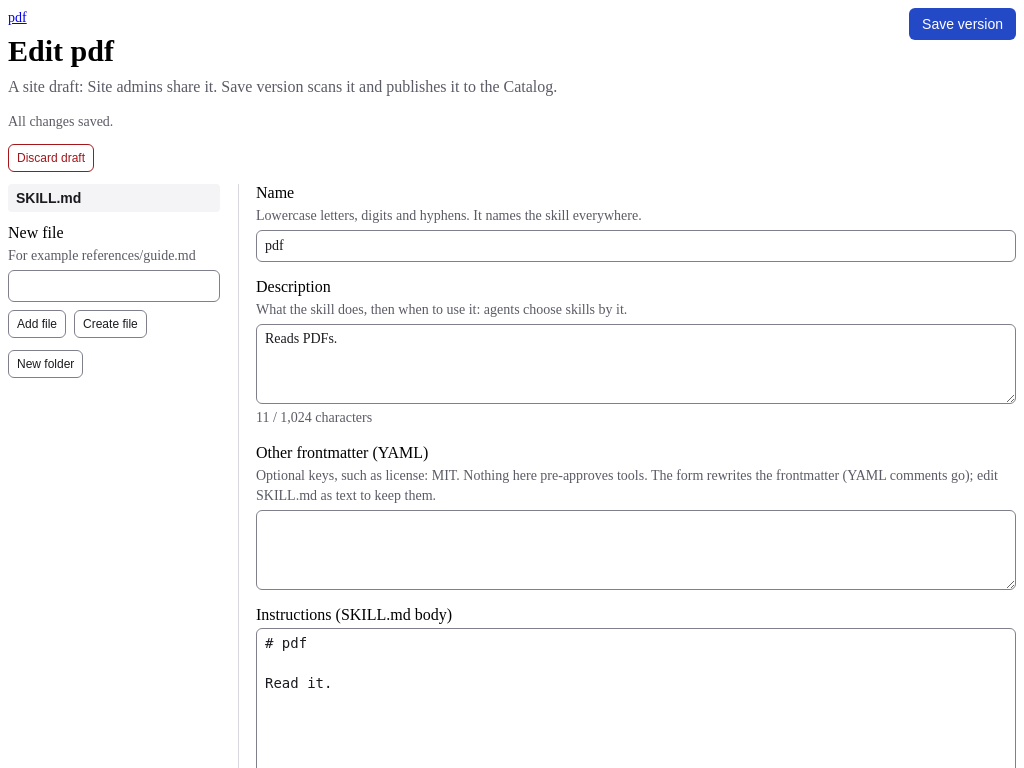
Scenario: site draft editor (ac-2, ac-3) › shows the findings when the scan blocks the version
This screenshot has width=1024, height=768.
Click the button "Save version" at (963, 24), box [909,8,1016,40]
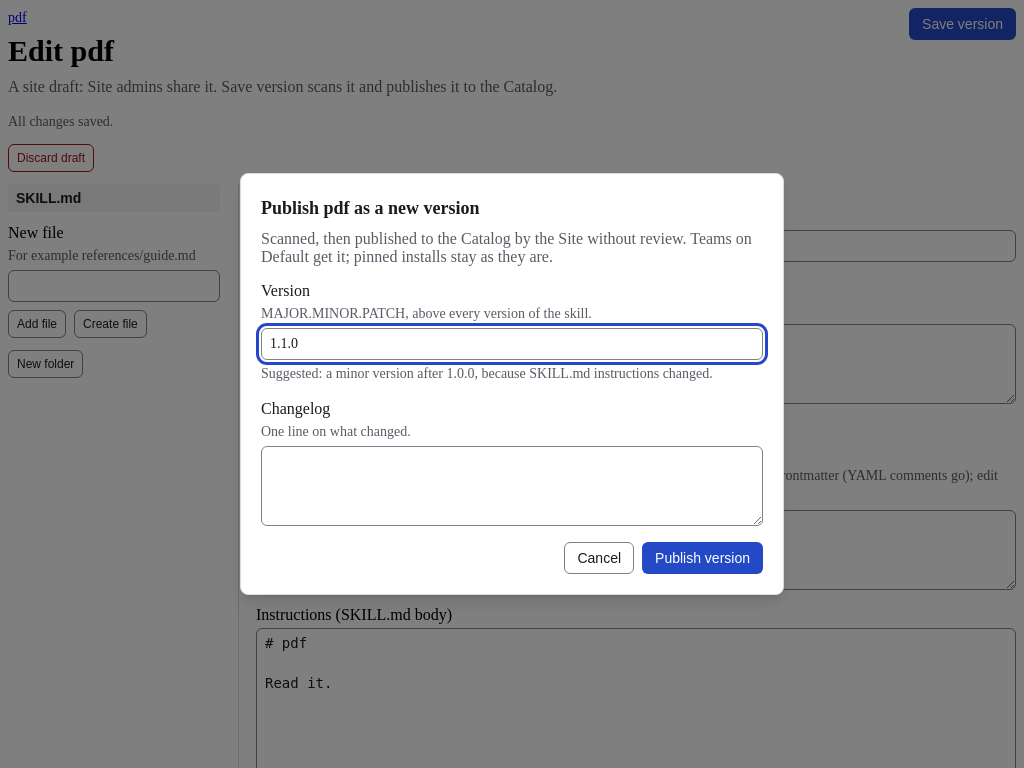
Type "X." into the text box labelled "Changelog" at (512, 486), box [261,446,763,526]
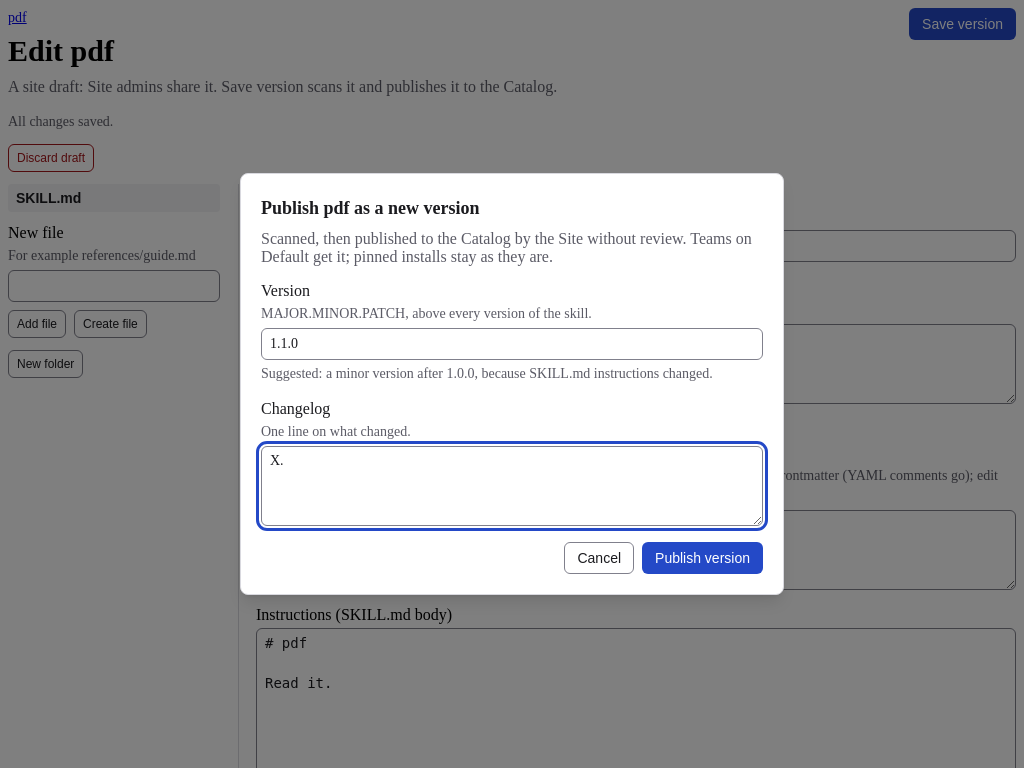
Result: the field labelled "Version" holds "1.1.0" at [261,328,763,360]
Click the button "Publish version" at (703, 558), box [642,542,763,574]
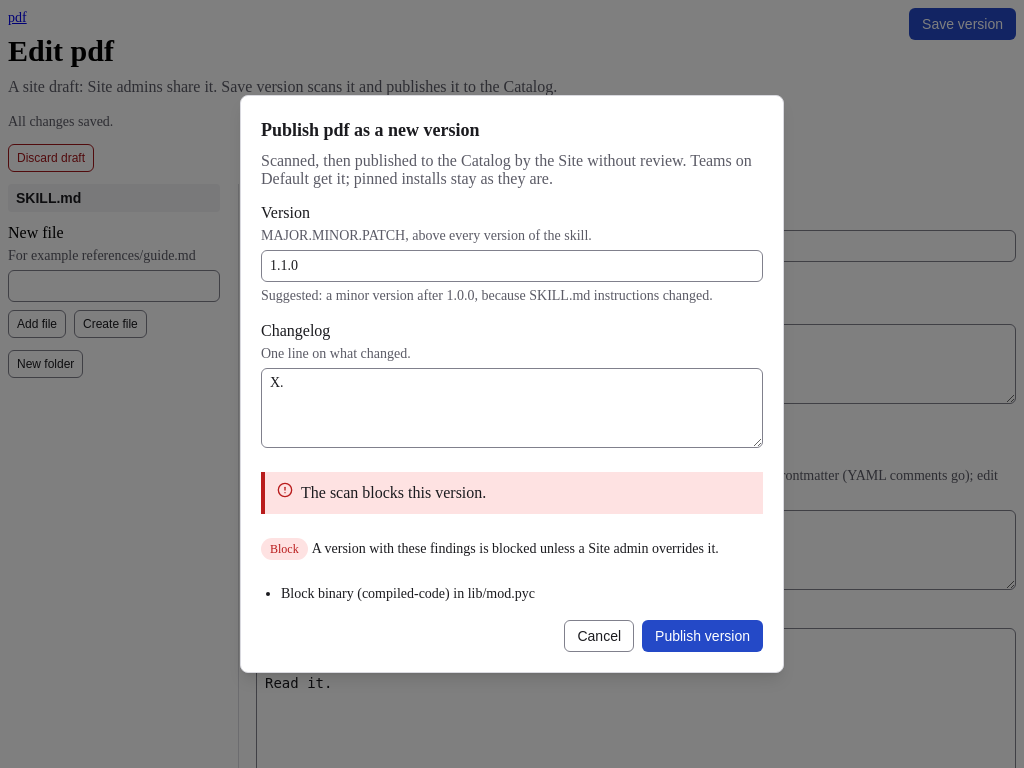
Result: the text "The scan blocks this version." is shown at [301,484,486,501]
Result: the list item "Block binary (compiled-code) in lib/mod.pyc" is shown at [281,586,535,601]
